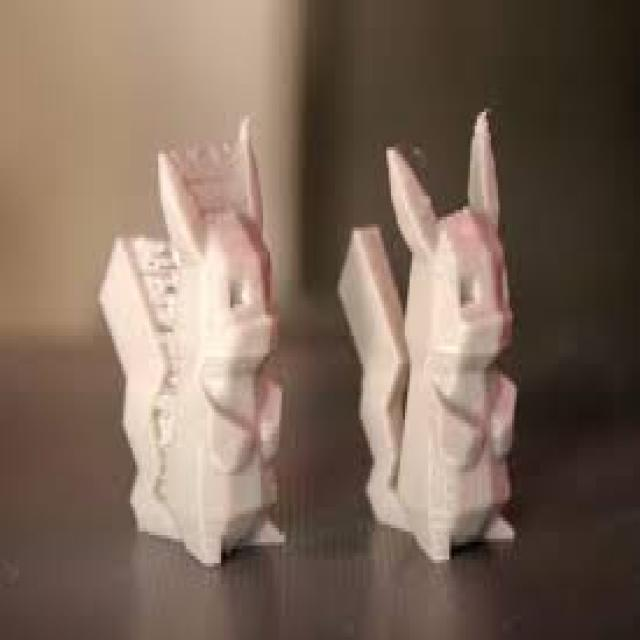Stringing: (122, 234, 178, 500), (188, 130, 242, 204)
